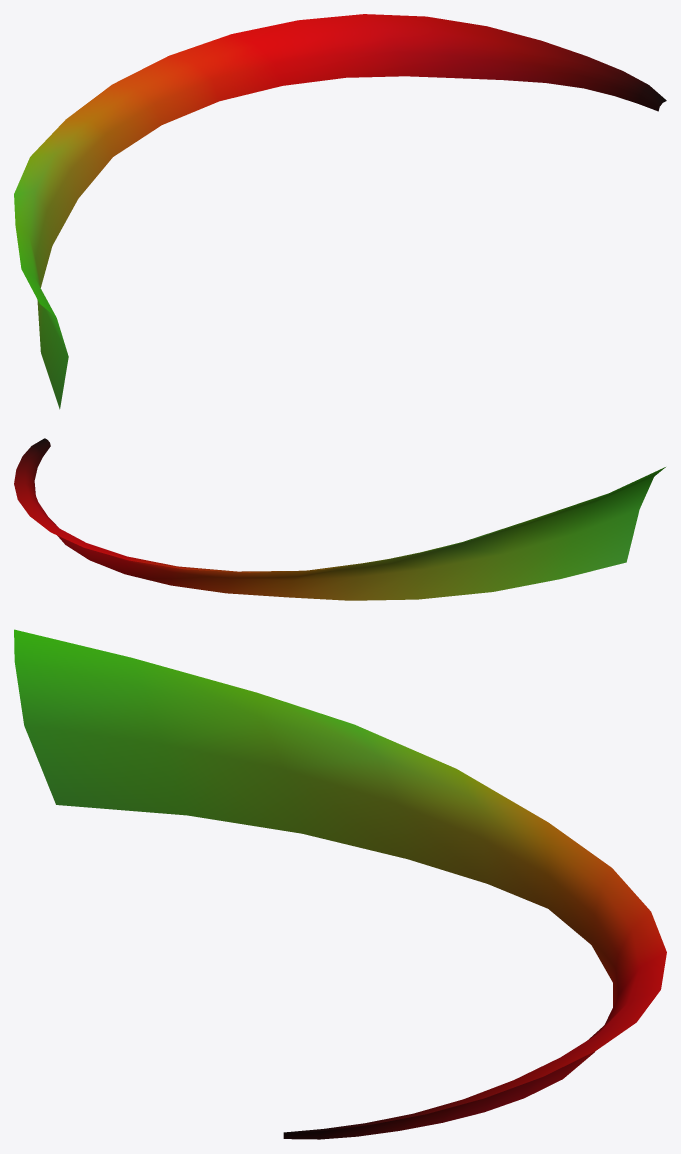
The model's file is uni_streak.fbx.
The picture shows the model from 3 angles, top to bottom: view 1: azimuth 30°, elevation 25°; view 2: azimuth 150°, elevation 25°; view 3: azimuth 270°, elevation 25°; orthographic projection. The views are drawn at different scales.
Visible parts, largest first — view 1: uni_streak; view 2: uni_streak; view 3: uni_streak.
Boxes of the visible parts, x1,y1,x2,y2 form: uni_streak: (14, 14, 666, 409); uni_streak: (14, 438, 665, 600); uni_streak: (14, 629, 666, 1139).
Bounding box in the file's own units: 32707 × 51259 × 8481.
